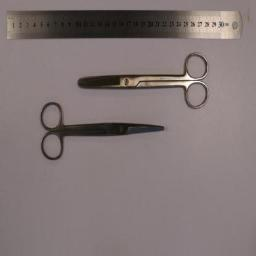Curved Mayo Scissors: (40, 101, 164, 161)
Dressing Scissors: (78, 50, 210, 110)
